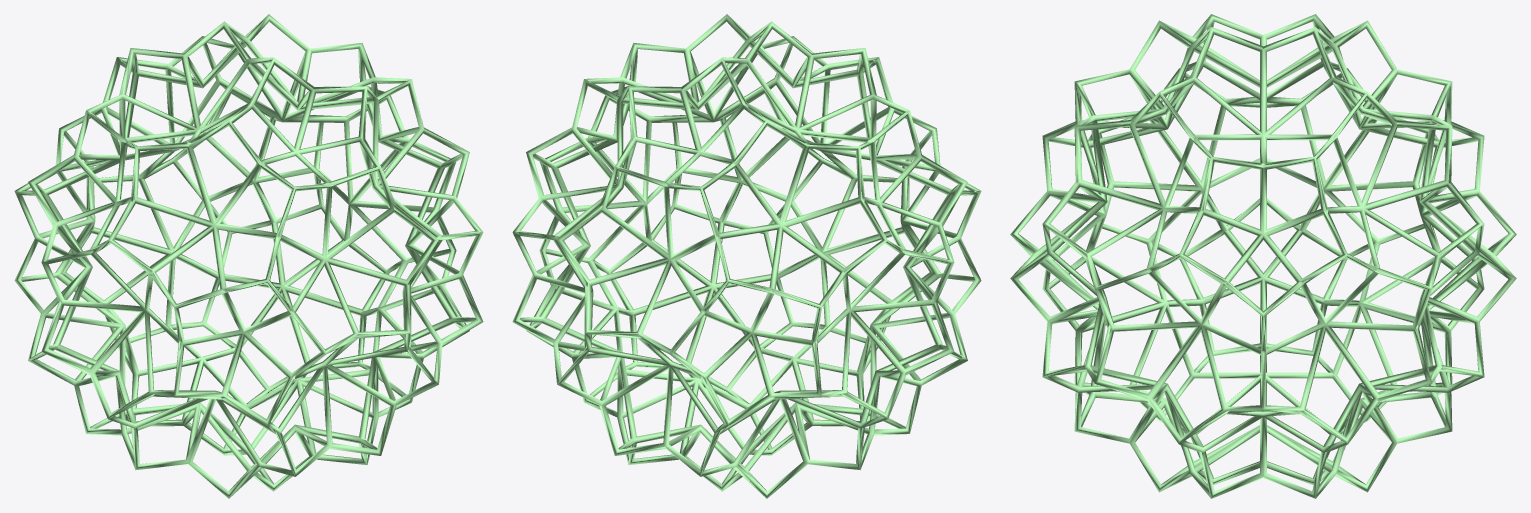
Rendered from TruncatedIcosahedronK1.glb.
The picture shows the model from 3 angles, left to right: view 1: azimuth 30°, elevation 25°; view 2: azimuth 150°, elevation 25°; view 3: azimuth 270°, elevation 25°; orthographic projection. The views are drawn at different scales.
Visible parts, largest first — view 1: Truncated_Icosahedron; view 2: Truncated_Icosahedron; view 3: Truncated_Icosahedron.
Boxes of the visible parts, x1,y1,x2,y2 form: Truncated_Icosahedron: [14, 14, 483, 498]; Truncated_Icosahedron: [512, 14, 981, 498]; Truncated_Icosahedron: [1010, 14, 1516, 498].
Bounding box in the file's own units: 4.92 × 4.92 × 4.92.
